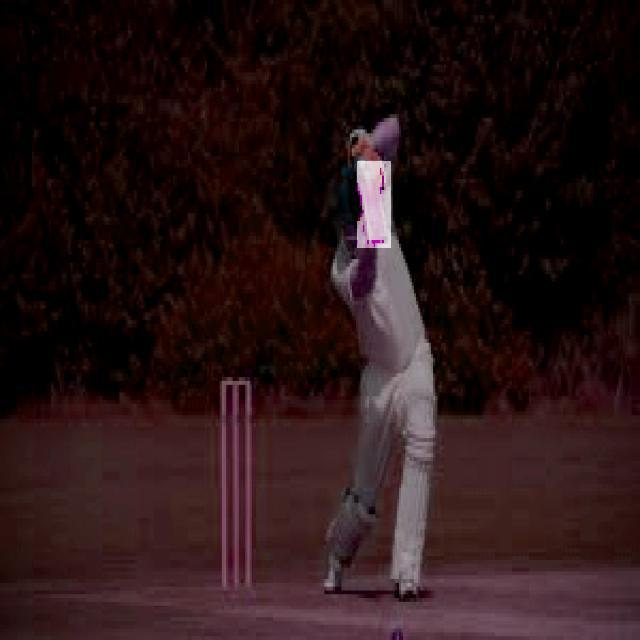bat: (358, 163, 392, 248)
toe: (359, 239, 392, 248)
